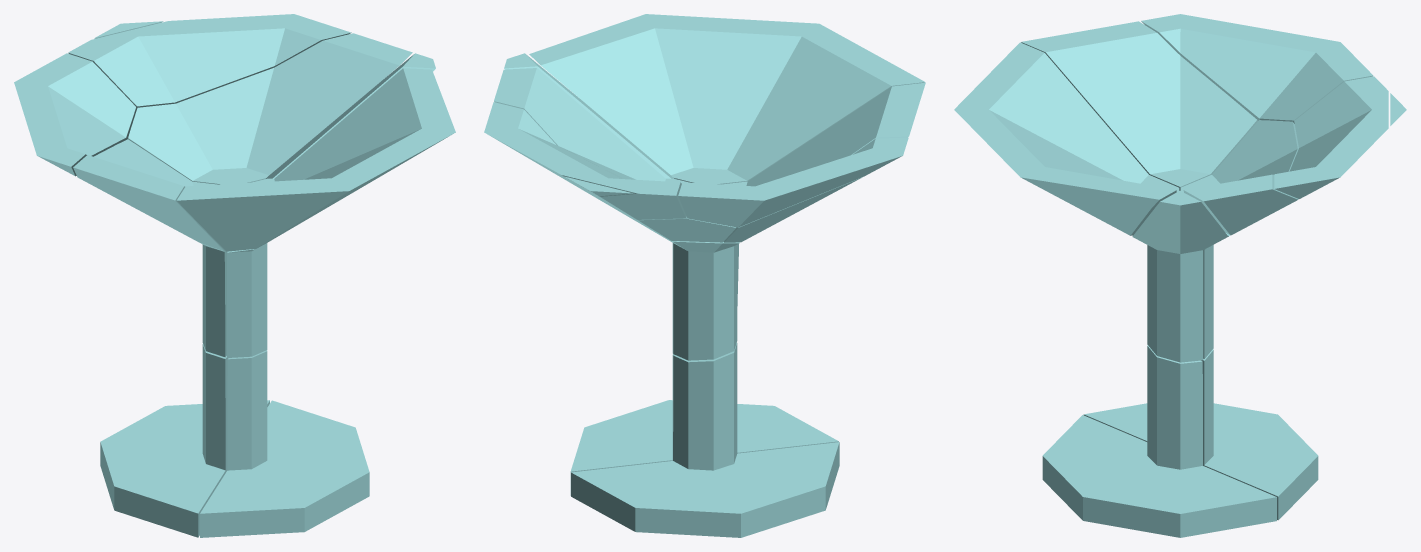
The model's file is pandemonium_martiniGlass_fractured.fbx.
3 renders of one model, left to right at view 1: azimuth 30°, elevation 25°; view 2: azimuth 150°, elevation 25°; view 3: azimuth 270°, elevation 25°, orthographic.
Visible parts, largest first — view 1: Cylinder.017_cell.006, Cylinder.017_cell.002, Cylinder.017_cell, Cylinder.017_cell.001, Cylinder.017_cell.007, Cylinder.017_cell.009, Cylinder.017_cell.008, Cylinder.017_cell.004, Cylinder.017_cell.005; view 2: Cylinder.017_cell, Cylinder.017_cell.007, Cylinder.017_cell.006, Cylinder.017_cell.002, Cylinder.017_cell.005, Cylinder.017_cell.009, Cylinder.017_cell.008, Cylinder.017_cell.001, Cylinder.017_cell.004; view 3: Cylinder.017_cell.002, Cylinder.017_cell.008, Cylinder.017_cell, Cylinder.017_cell.009, Cylinder.017_cell.007, Cylinder.017_cell.004, Cylinder.017_cell.001, Cylinder.017_cell.006, Cylinder.017_cell.005.
Part boxes in pixels (left/top/right/bottom): Cylinder.017_cell.006: left=124, top=33, right=412, bottom=184; Cylinder.017_cell.002: left=200, top=350, right=369, bottom=537; Cylinder.017_cell: left=176, top=68, right=455, bottom=251; Cylinder.017_cell.001: left=68, top=14, right=351, bottom=110; Cylinder.017_cell.007: left=100, top=344, right=269, bottom=537; Cylinder.017_cell.009: left=14, top=53, right=135, bottom=176; Cylinder.017_cell.008: left=73, top=139, right=224, bottom=251; Cylinder.017_cell.004: left=227, top=53, right=435, bottom=357; Cylinder.017_cell.005: left=200, top=243, right=227, bottom=357; Cylinder.017_cell: left=529, top=14, right=924, bottom=184; Cylinder.017_cell.007: left=571, top=343, right=839, bottom=537; Cylinder.017_cell.006: left=494, top=68, right=736, bottom=242; Cylinder.017_cell.002: left=570, top=354, right=838, bottom=495; Cylinder.017_cell.005: left=643, top=225, right=739, bottom=360; Cylinder.017_cell.009: left=678, top=137, right=908, bottom=227; Cylinder.017_cell.008: left=721, top=82, right=925, bottom=242; Cylinder.017_cell.001: left=484, top=102, right=686, bottom=219; Cylinder.017_cell.004: left=504, top=53, right=674, bottom=353; Cylinder.017_cell.002: left=1042, top=345, right=1276, bottom=537; Cylinder.017_cell.008: left=1021, top=21, right=1257, bottom=190; Cylinder.017_cell: left=954, top=42, right=1179, bottom=235; Cylinder.017_cell.009: left=1141, top=14, right=1373, bottom=123; Cylinder.017_cell.007: left=1083, top=349, right=1318, bottom=520; Cylinder.017_cell.004: left=1132, top=191, right=1228, bottom=362; Cylinder.017_cell.001: left=1274, top=76, right=1388, bottom=198; Cylinder.017_cell.006: left=1181, top=120, right=1298, bottom=235; Cylinder.017_cell.005: left=1203, top=233, right=1229, bottom=358.
Size of the model in its own units: 49.72 by 44.82 by 49.72.
